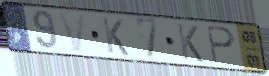7: (134, 16, 159, 63)
9: (30, 8, 59, 52)
K: (175, 22, 206, 65), (100, 16, 131, 58)
P: (205, 24, 238, 66)
V: (56, 11, 88, 54)
